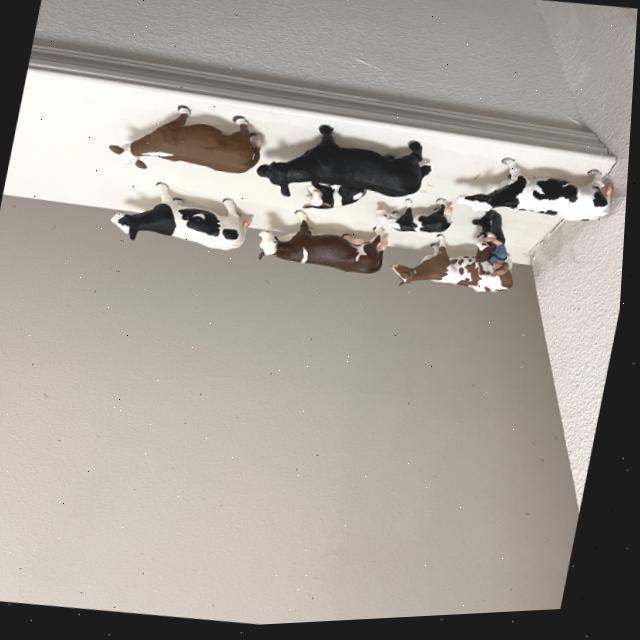cow: (259, 128, 433, 203), (459, 157, 618, 236), (111, 177, 258, 262), (110, 105, 266, 177), (259, 209, 394, 282), (393, 238, 517, 299), (378, 203, 456, 238), (306, 187, 369, 217), (475, 244, 503, 273), (501, 275, 511, 282)
person: (479, 216, 514, 284)
